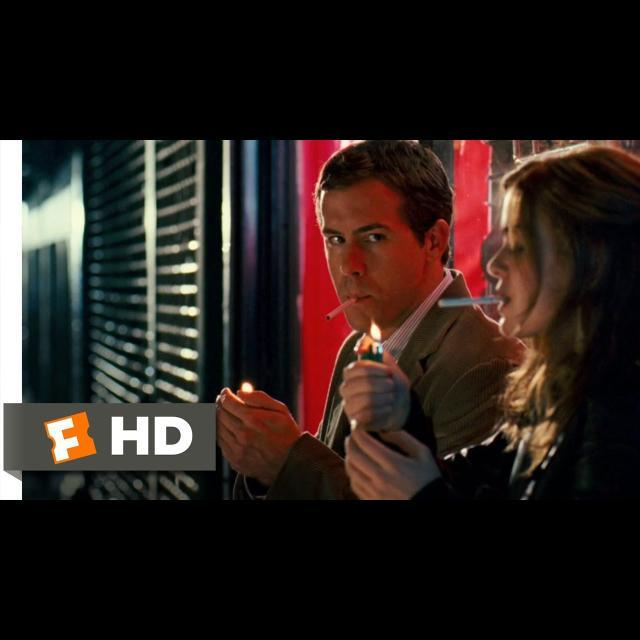rokok: (431, 288, 509, 316), (322, 294, 362, 324)
